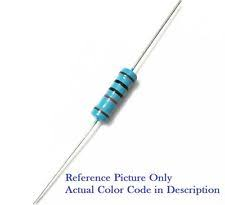resistor: (91, 55, 146, 144)
